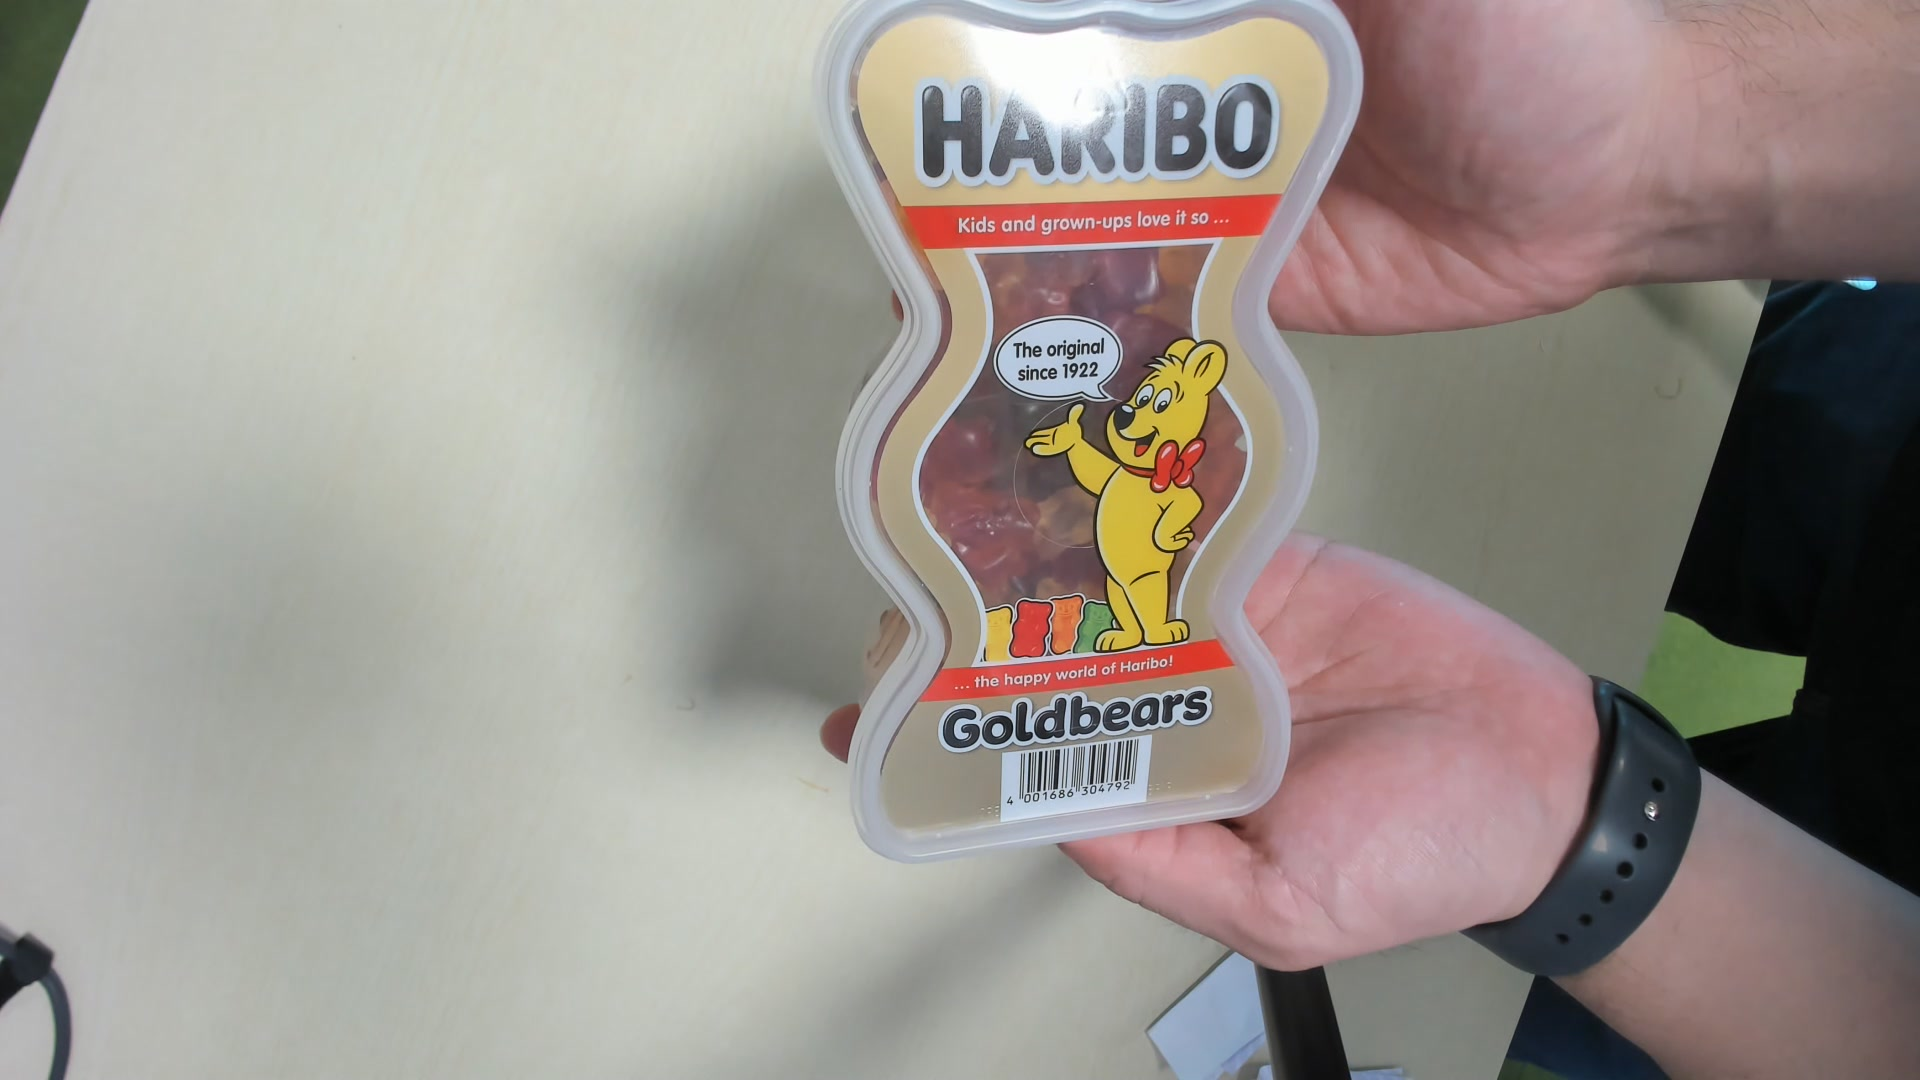SweetsChocolatesOthers_400-499g_NonHalal_Nonhealthy: (808, 5, 1367, 876)
